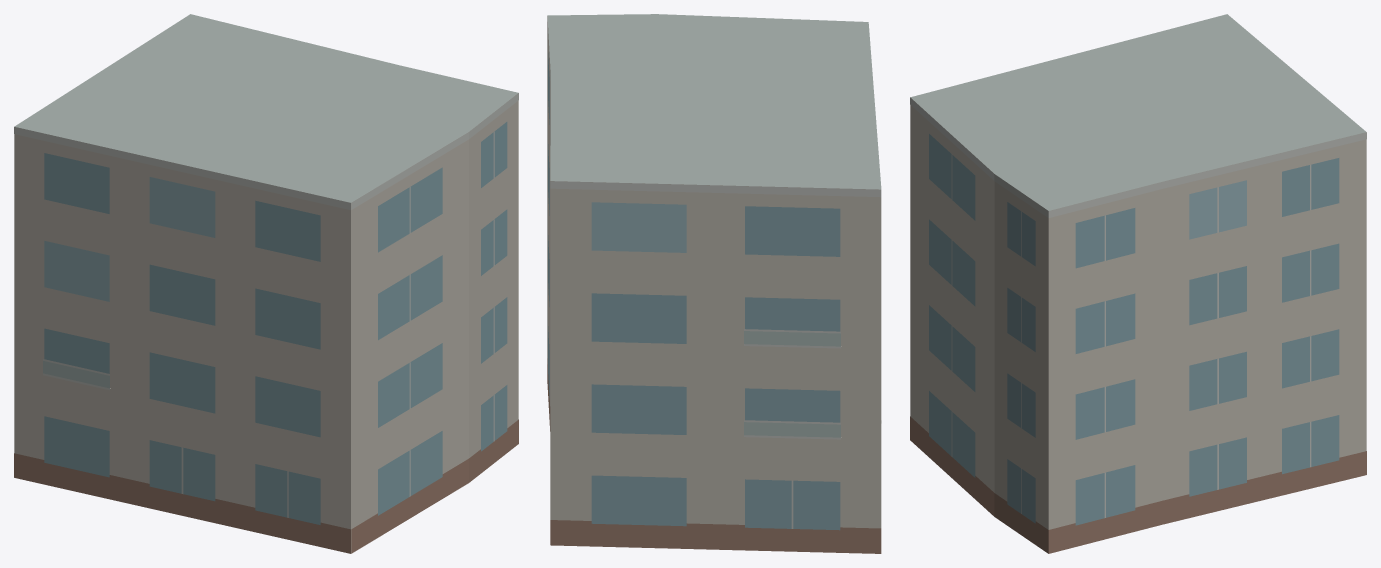
Rendered from survey-upis-32781433.glb.
3 renders of one model, left to right at view 1: azimuth 30°, elevation 25°; view 2: azimuth 150°, elevation 25°; view 3: azimuth 270°, elevation 25°, orthographic. The views are drawn at different scales.
Parts seen in each view (by area): view 1: survey-upis-32781433.tmp; view 2: survey-upis-32781433.tmp; view 3: survey-upis-32781433.tmp.
Boxes of the visible parts, x1=… form: survey-upis-32781433.tmp: x1=14, y1=14, x2=518, y2=553; survey-upis-32781433.tmp: x1=547, y1=14, x2=881, y2=553; survey-upis-32781433.tmp: x1=910, y1=14, x2=1366, y2=553.
Size of the model in its own units: 14.3 by 11.6 by 14.01.
